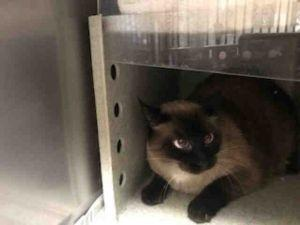siamese: (131, 79, 240, 185)
